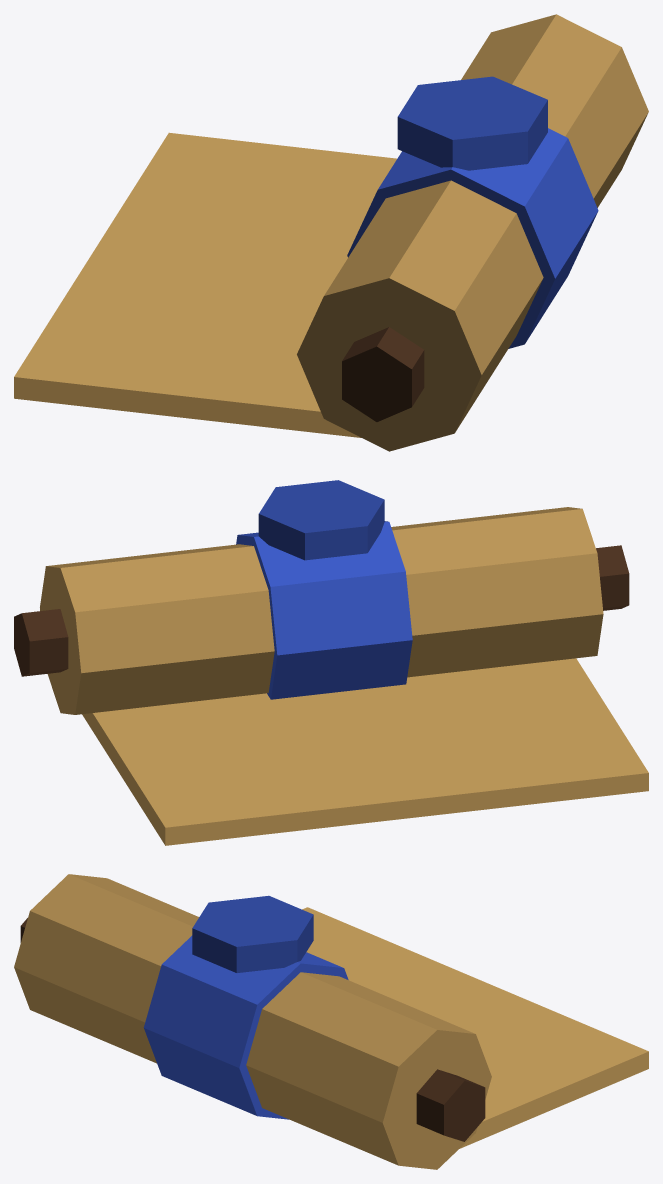
File: scroll_of_magic_mapping.glb
3 renders of one model, top to bottom at view 1: azimuth 30°, elevation 25°; view 2: azimuth 150°, elevation 25°; view 3: azimuth 270°, elevation 25°, orthographic. The views are drawn at different scales.
Visible parts, largest first — view 1: scroll_of_magic_mapping; view 2: scroll_of_magic_mapping; view 3: scroll_of_magic_mapping.
Boxes of the visible parts, <box> form: scroll_of_magic_mapping: <box>14,14,648,451</box>; scroll_of_magic_mapping: <box>14,480,648,845</box>; scroll_of_magic_mapping: <box>14,874,648,1169</box>.
Bounding box in the file's own units: 0.822 × 0.2563 × 0.822.
